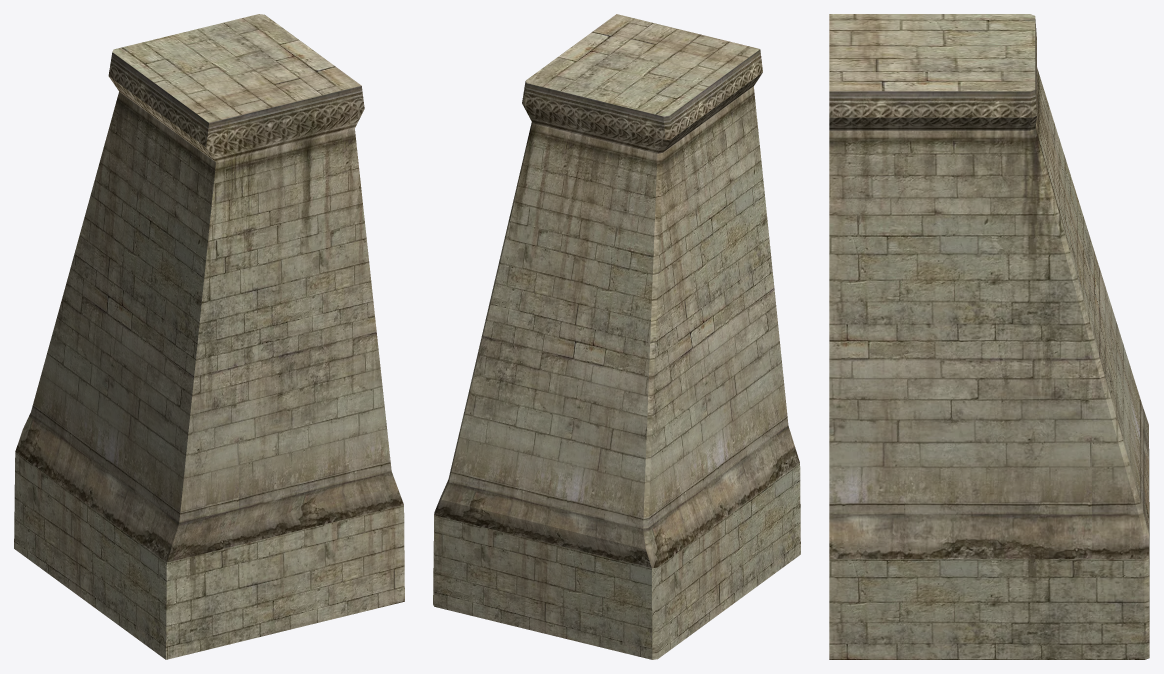
The model's file is TW2_5_TOWNWALL_01_06-transformed.glb.
3 renders of one model, left to right at view 1: azimuth 30°, elevation 25°; view 2: azimuth 150°, elevation 25°; view 3: azimuth 270°, elevation 25°, orthographic. The views are drawn at different scales.
Parts seen in each view (by area): view 1: default; view 2: default; view 3: default.
Part boxes in pixels (x1,y1,x2,y2): default: (14,14,404,659); default: (433,14,800,659); default: (829,14,1149,659).
Size of the model in its own units: 8.79 by 18.5 by 9.83.
Materials: 1 (1 with a texture image).
